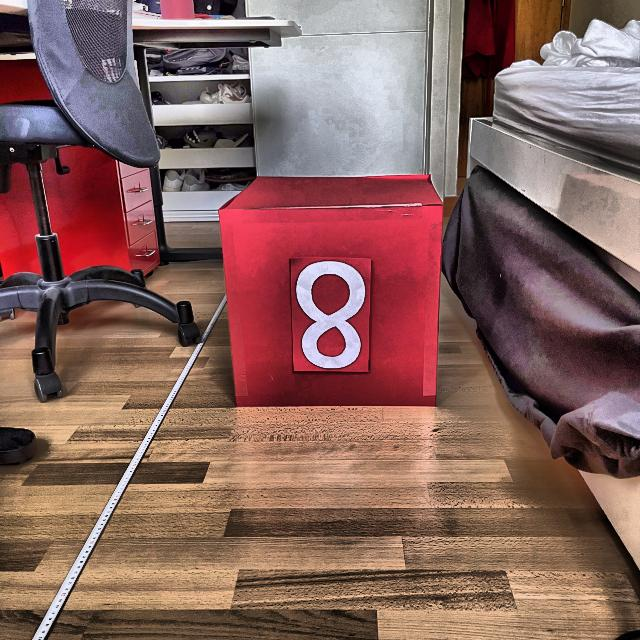eight: (292, 258, 368, 370)
red box: (218, 173, 442, 410)
